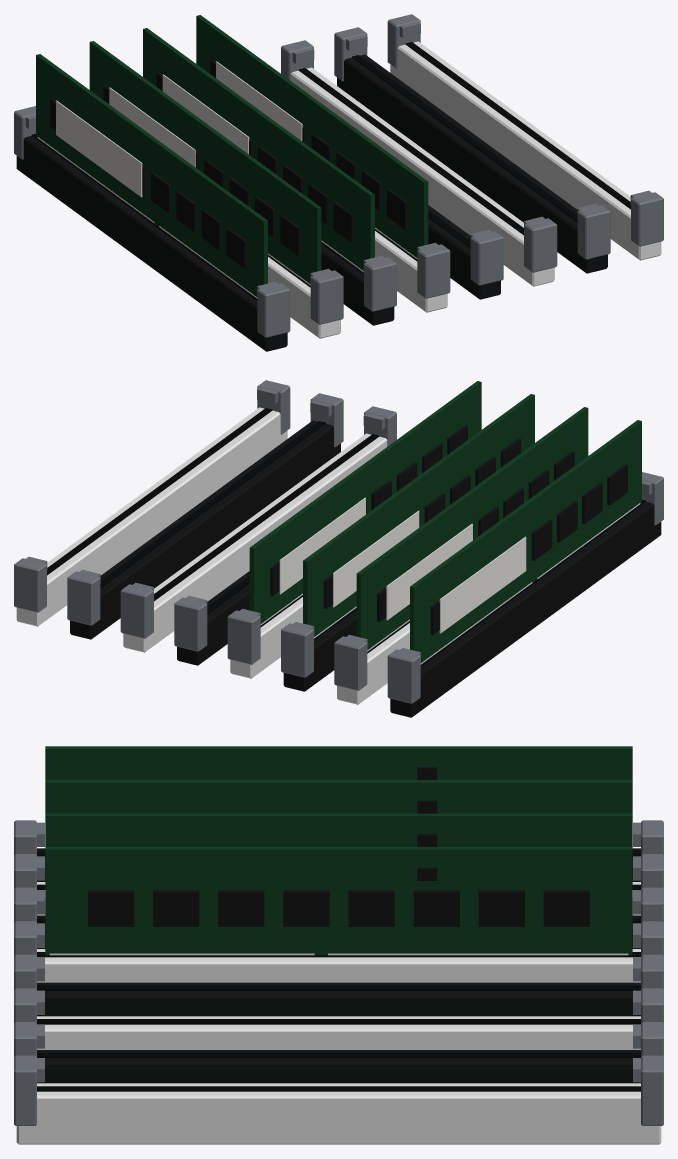
Rendered from hwm_ram_ddr3_4gb.glb.
The picture shows the model from 3 angles, top to bottom: view 1: azimuth 30°, elevation 25°; view 2: azimuth 150°, elevation 25°; view 3: azimuth 270°, elevation 25°; orthographic projection. The views are drawn at different scales.
Parts seen in each view (by area): view 1: Slots, Stick_0, Stick_1, Stick_3, Stick_2, Latch_1_1, Latch_4_1, Latch_6_1, Latch_5_1, Latch_0_1, Latch_3_1, Latch_7_1 (+5 smaller); view 2: Slots, Stick_0, Stick_1, Stick_3, Stick_2, Latch_1_0, Latch_4_0, Latch_6_0, Latch_5_0, Latch_0_0, Latch_3_0, Latch_7_0 (+5 smaller); view 3: Slots, Stick_3, Stick_0, Stick_1, Stick_2, Latch_7_0, Latch_7_1, Latch_2_0, Latch_2_1, Latch_4_0, Latch_4_1, Latch_0_0 (+9 smaller).
Boxes of the visible parts, x1,y1,x2,y2 form: Slots: [16, 41, 661, 351]; Stick_0: [36, 54, 267, 298]; Stick_1: [89, 41, 321, 285]; Stick_3: [196, 15, 428, 259]; Stick_2: [143, 28, 374, 272]; Latch_1_1: [310, 268, 343, 324]; Latch_4_1: [470, 229, 503, 285]; Latch_6_1: [577, 203, 610, 259]; Latch_5_1: [524, 216, 557, 272]; Latch_0_1: [257, 282, 290, 337]; Latch_3_1: [417, 242, 450, 298]; Latch_7_1: [630, 190, 663, 246]; Slots: [16, 407, 661, 717]; Stick_0: [410, 420, 641, 664]; Stick_1: [356, 407, 588, 651]; Stick_3: [249, 381, 481, 625]; Stick_2: [303, 394, 534, 638]; Latch_1_0: [334, 634, 367, 690]; Latch_4_0: [174, 595, 207, 651]; Latch_6_0: [67, 569, 100, 625]; Latch_5_0: [120, 582, 153, 638]; Latch_0_0: [387, 648, 420, 703]; Latch_3_0: [227, 608, 260, 664]; Latch_7_0: [14, 556, 47, 612]; Slots: [16, 848, 661, 1144]; Stick_3: [45, 847, 632, 955]; Stick_0: [45, 746, 632, 779]; Stick_1: [45, 780, 632, 813]; Stick_2: [45, 813, 632, 846]; Latch_7_0: [633, 1055, 663, 1125]; Latch_7_1: [14, 1055, 44, 1125]; Latch_2_0: [633, 887, 663, 922]; Latch_2_1: [14, 887, 44, 922]; Latch_4_0: [633, 954, 663, 989]; Latch_4_1: [14, 954, 44, 989]; Latch_0_0: [633, 820, 663, 855].
Size of the model in its own units: 0.1346 by 0.0389 by 0.1472.
